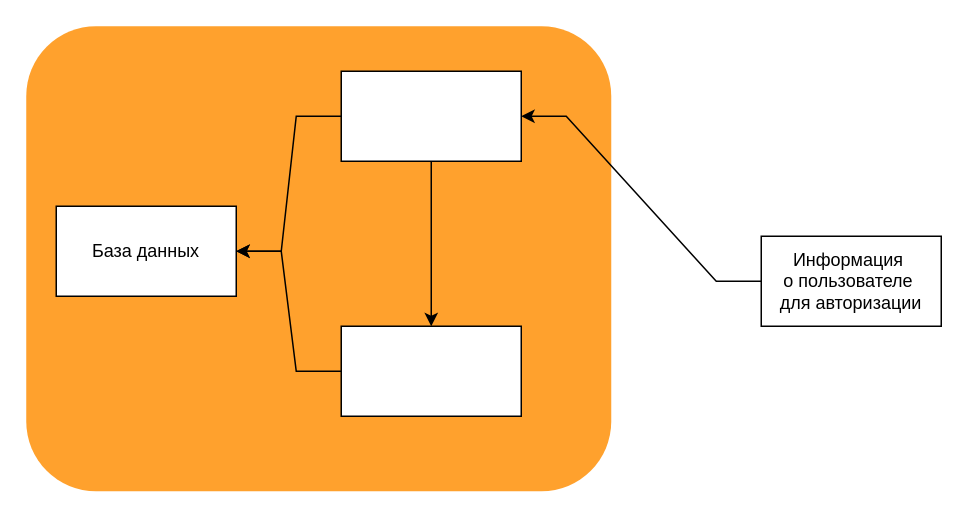
Some shapes in this 968 by 516 pixel diagram are drawn without their labels. Each missing label, with the centre of its shape:
Модуль авторизации: point (430, 115)
Система: point (430, 370)
